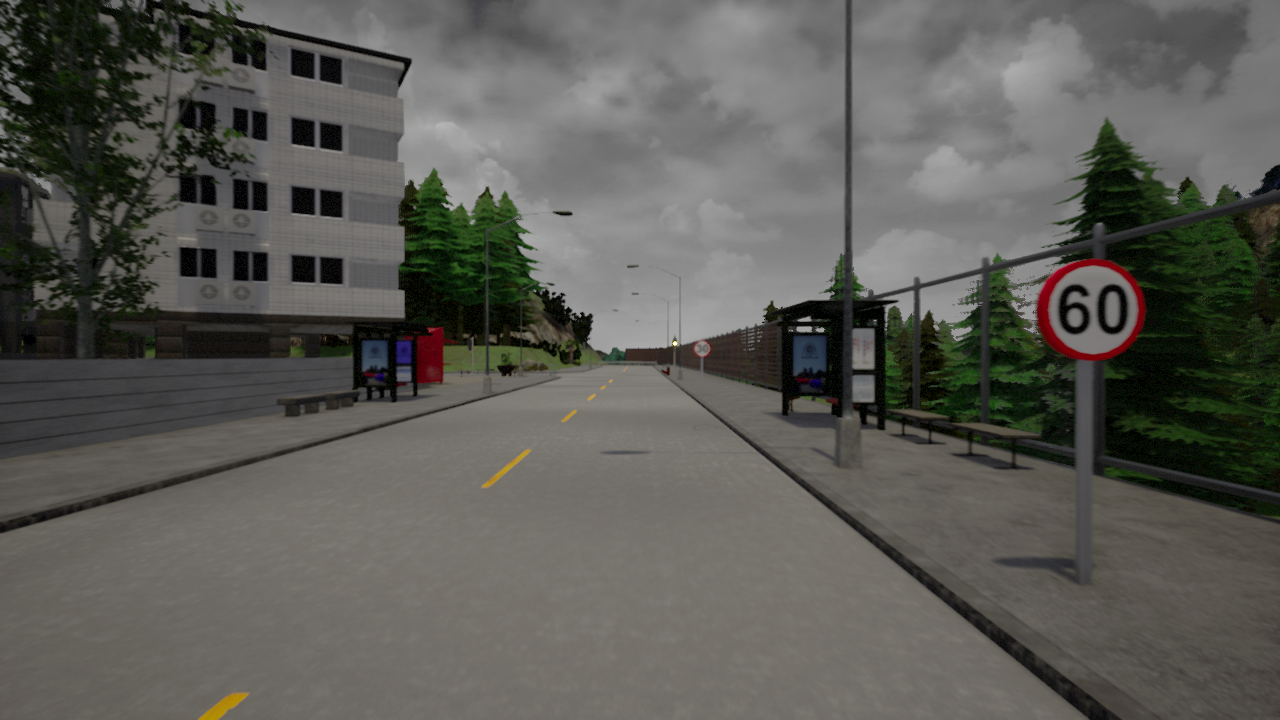yellow: (671, 336, 678, 352)
